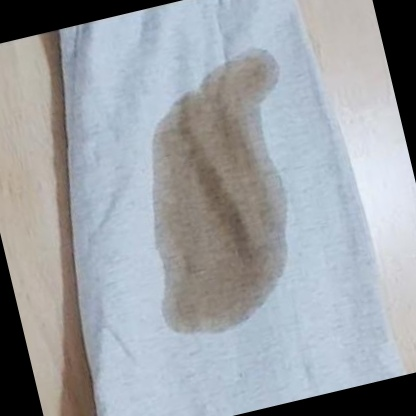coffee: (133, 93, 307, 327)
